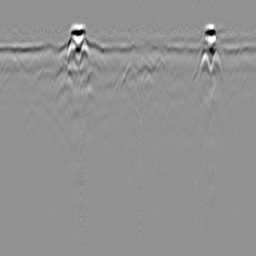cavity: (119, 60, 139, 90)
